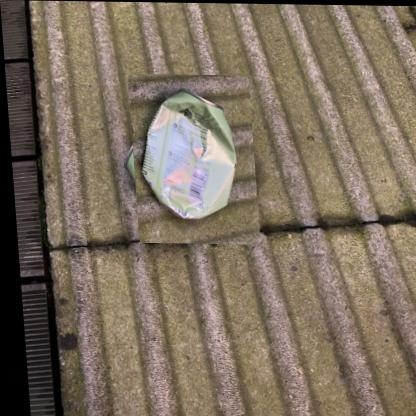trash: (143, 91, 235, 218)
